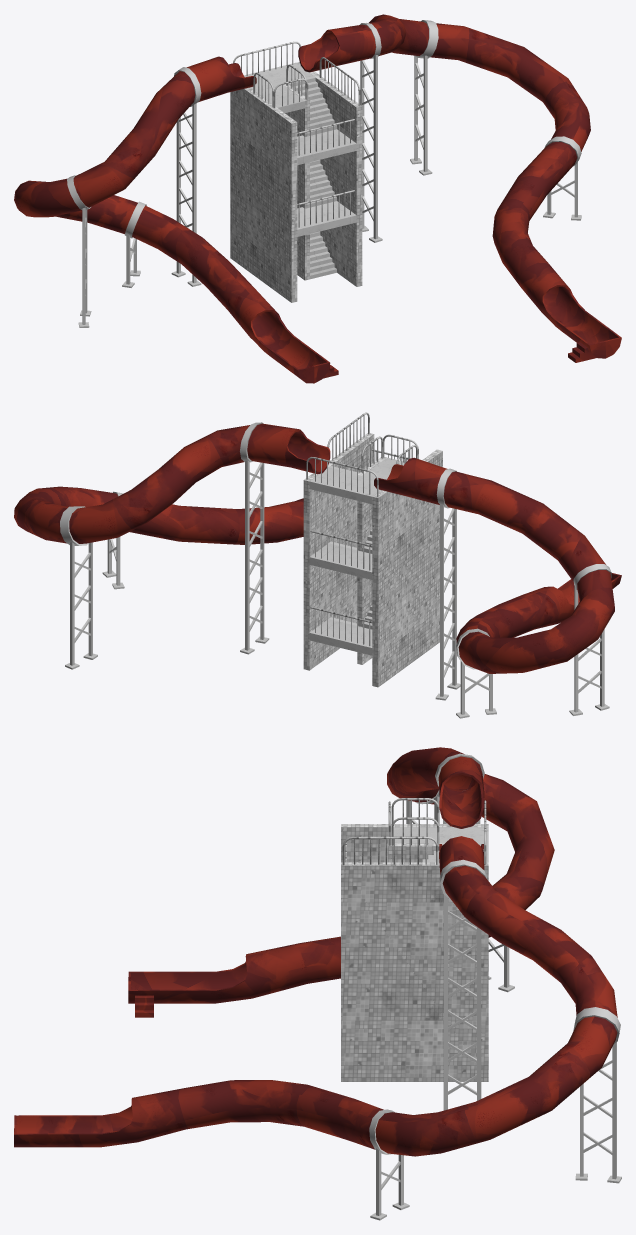
Rendered from ToboganTower.fbx.
The picture shows the model from 3 angles, top to bottom: view 1: azimuth 30°, elevation 25°; view 2: azimuth 150°, elevation 25°; view 3: azimuth 270°, elevation 25°; orthographic projection. The views are drawn at different scales.
Parts seen in each view (by area): view 1: ToboganTower; view 2: ToboganTower; view 3: ToboganTower.
Part boxes in pixels (box(x1,y1,x2,y2)): ToboganTower: box(14, 14, 621, 383); ToboganTower: box(14, 412, 621, 718); ToboganTower: box(14, 747, 621, 1220).
Size of the model in its own units: 2402 by 1911 by 892.
